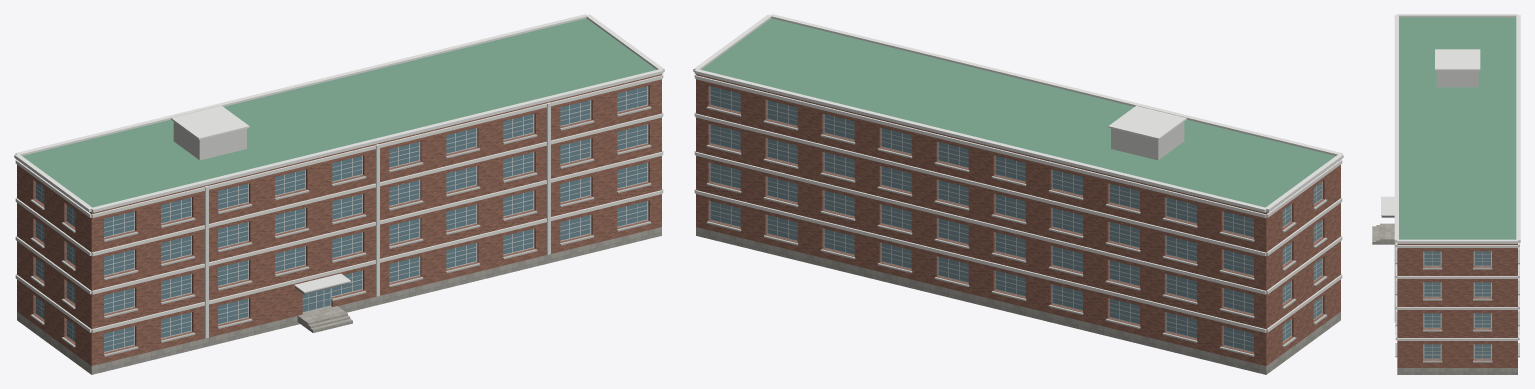
3 renders of one model, left to right at view 1: azimuth 30°, elevation 25°; view 2: azimuth 150°, elevation 25°; view 3: azimuth 270°, elevation 25°, orthographic. The views are drawn at different scales.
Visible parts, largest first — view 1: west-wing__brick, west-wing__roof, west-wing__glass, west-wing__band, west-wing__cap, west-wing__frame, west-wing__stone, west-wing__sill, west-wing__panel, west-wing__sideglass, west-wing__stair-front; view 2: west-wing__brick, west-wing__roof, west-wing__sideglass, west-wing__band, west-wing__frame, west-wing__cap, west-wing__stone, west-wing__sill, west-wing__panel; view 3: west-wing__roof, west-wing__brick, west-wing__cap, west-wing__sideglass, west-wing__band, west-wing__frame, west-wing__stone, west-wing__sill, west-wing__panel, west-wing__stair-front, west-wing__threshold-front.
Part boxes in pixels (box(x1,y1,x2,y2)): west-wing__brick: box(17, 74, 661, 365); west-wing__roof: box(22, 18, 656, 212); west-wing__glass: box(104, 86, 647, 351); west-wing__band: box(15, 74, 663, 338); west-wing__cap: box(14, 14, 664, 293); west-wing__frame: box(35, 86, 648, 352); west-wing__stone: box(17, 227, 661, 374); west-wing__sill: box(30, 106, 651, 356); west-wing__panel: box(173, 122, 246, 160); west-wing__sideglass: box(36, 182, 75, 341); west-wing__stair-front: box(306, 312, 352, 332); west-wing__brick: box(696, 74, 1340, 365); west-wing__roof: box(701, 18, 1335, 212); west-wing__sideglass: box(710, 86, 1321, 351); west-wing__band: box(694, 74, 1342, 332); west-wing__frame: box(709, 86, 1322, 352); west-wing__cap: box(693, 14, 1343, 212); west-wing__stone: box(696, 227, 1340, 374); west-wing__sill: box(706, 106, 1327, 356); west-wing__panel: box(1111, 122, 1184, 160); west-wing__roof: box(1399, 17, 1516, 239); west-wing__brick: box(1397, 244, 1517, 367); west-wing__cap: box(1381, 14, 1520, 243); west-wing__sideglass: box(1424, 251, 1490, 358); west-wing__band: box(1394, 242, 1519, 340); west-wing__frame: box(1423, 251, 1491, 359); west-wing__stone: box(1397, 368, 1517, 374); west-wing__sill: box(1395, 243, 1519, 362); west-wing__panel: box(1436, 70, 1478, 87); west-wing__stair-front: box(1372, 223, 1383, 244); west-wing__threshold-front: box(1384, 223, 1394, 244).
Size of the model in its own units: 53.5 by 16.66 by 14.72.
Materials: 12 (2 with a texture image).
